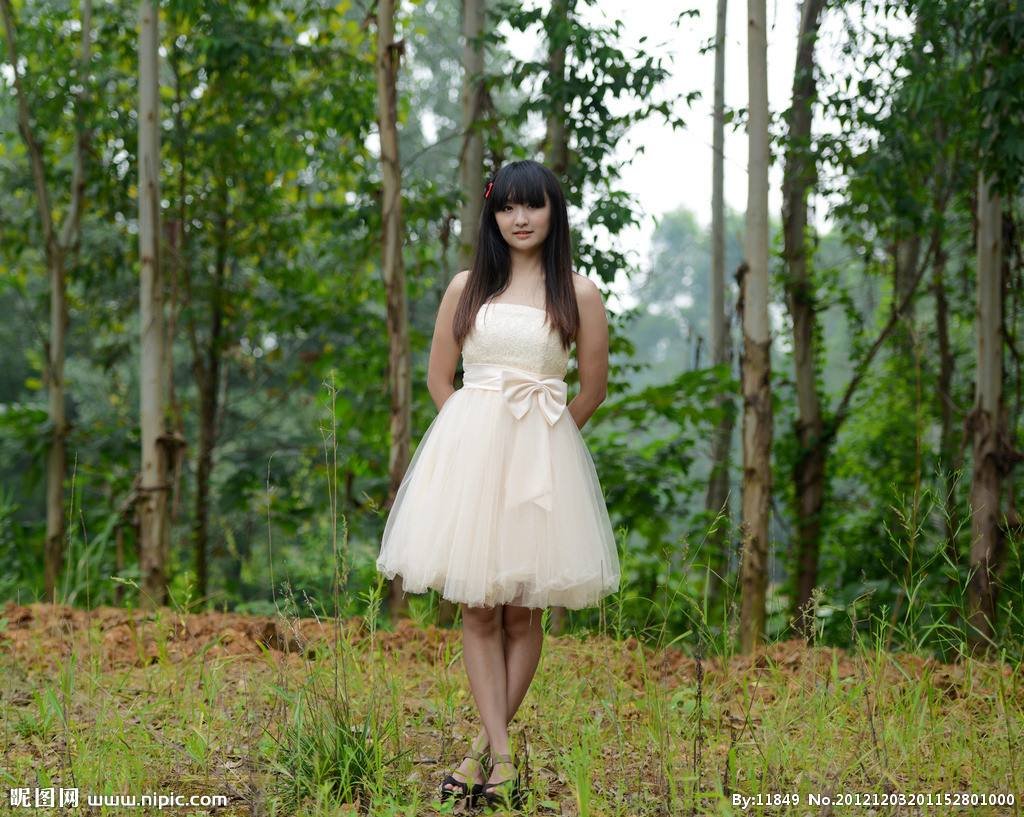person: (372, 183, 750, 720)
